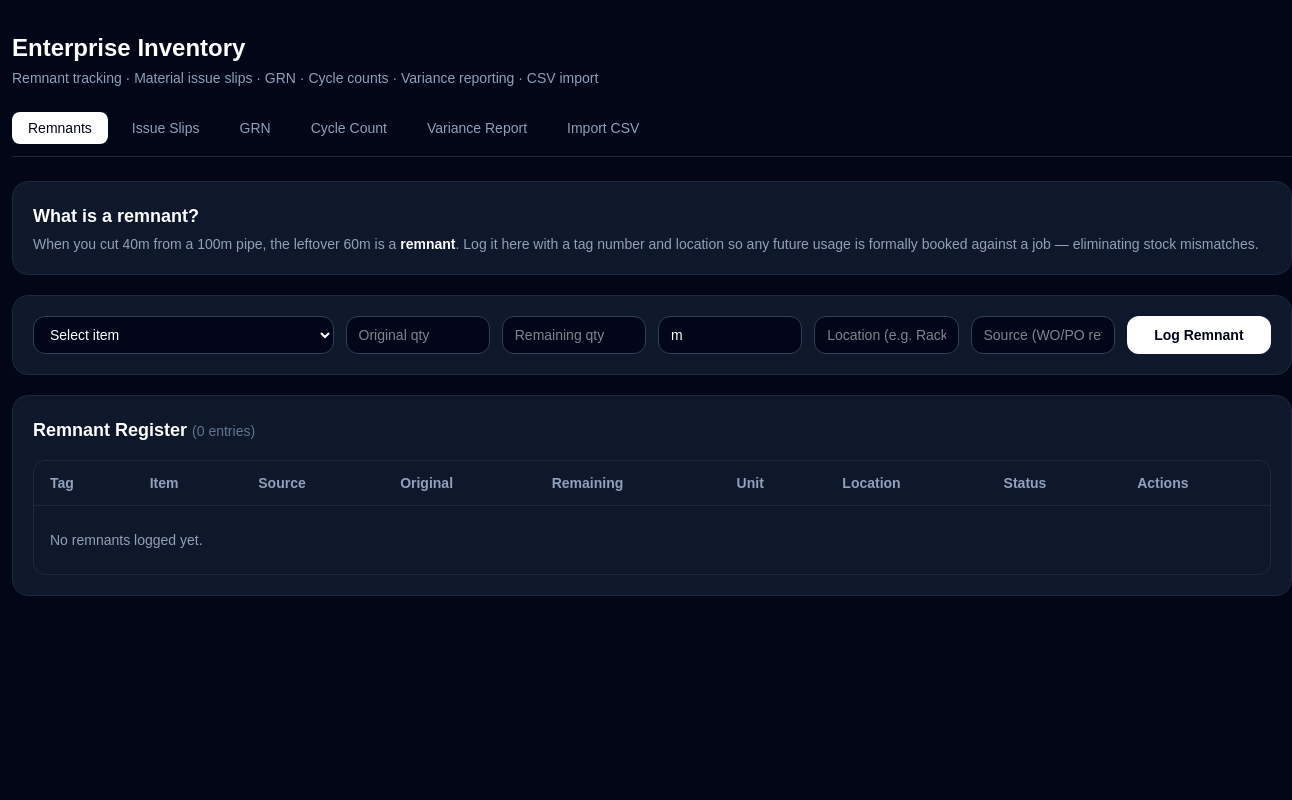
Test: EnterpriseInventory CSV import — a refusal is not a success › shows a 500 with a non-JSON body as refused, with the status
Click the button "Import CSV". click: x=603, y=128
box: [551,112,655,144]
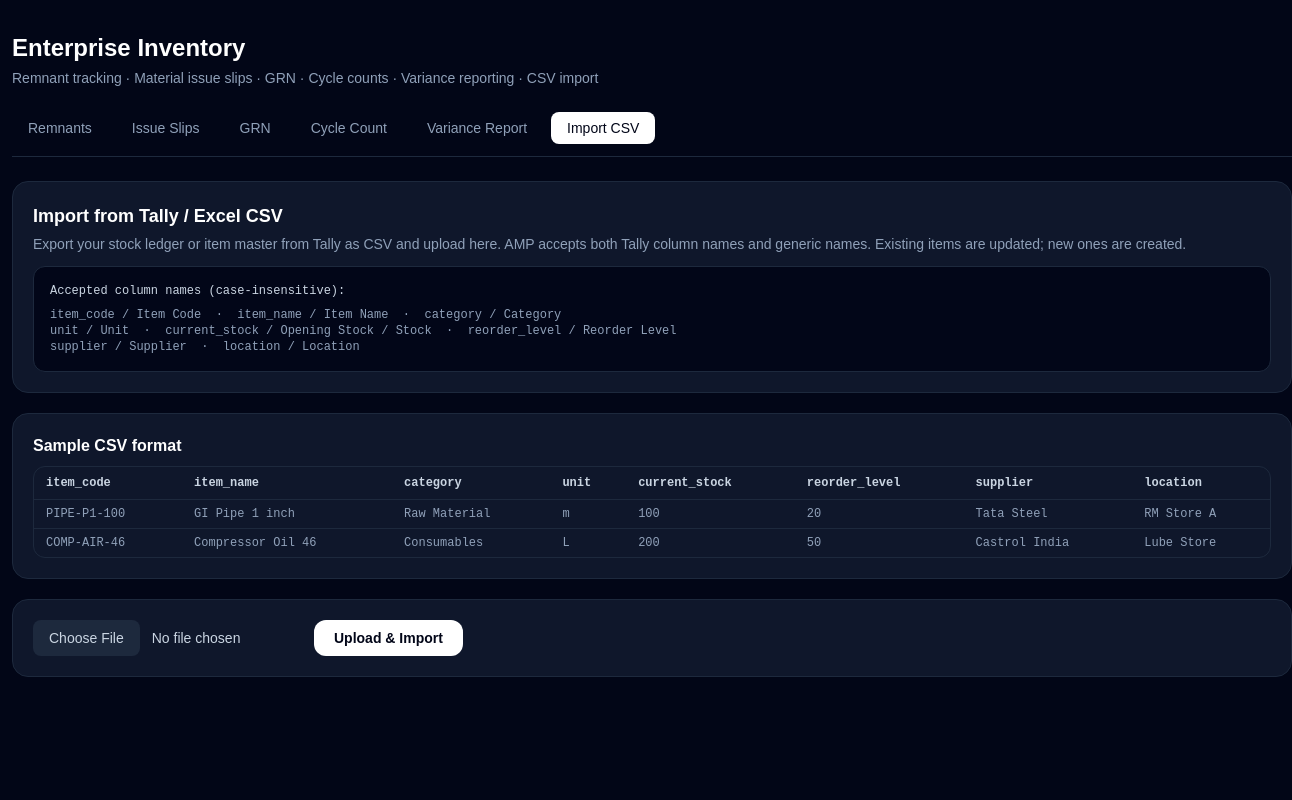
Submit the form, box [12,599,1291,677]
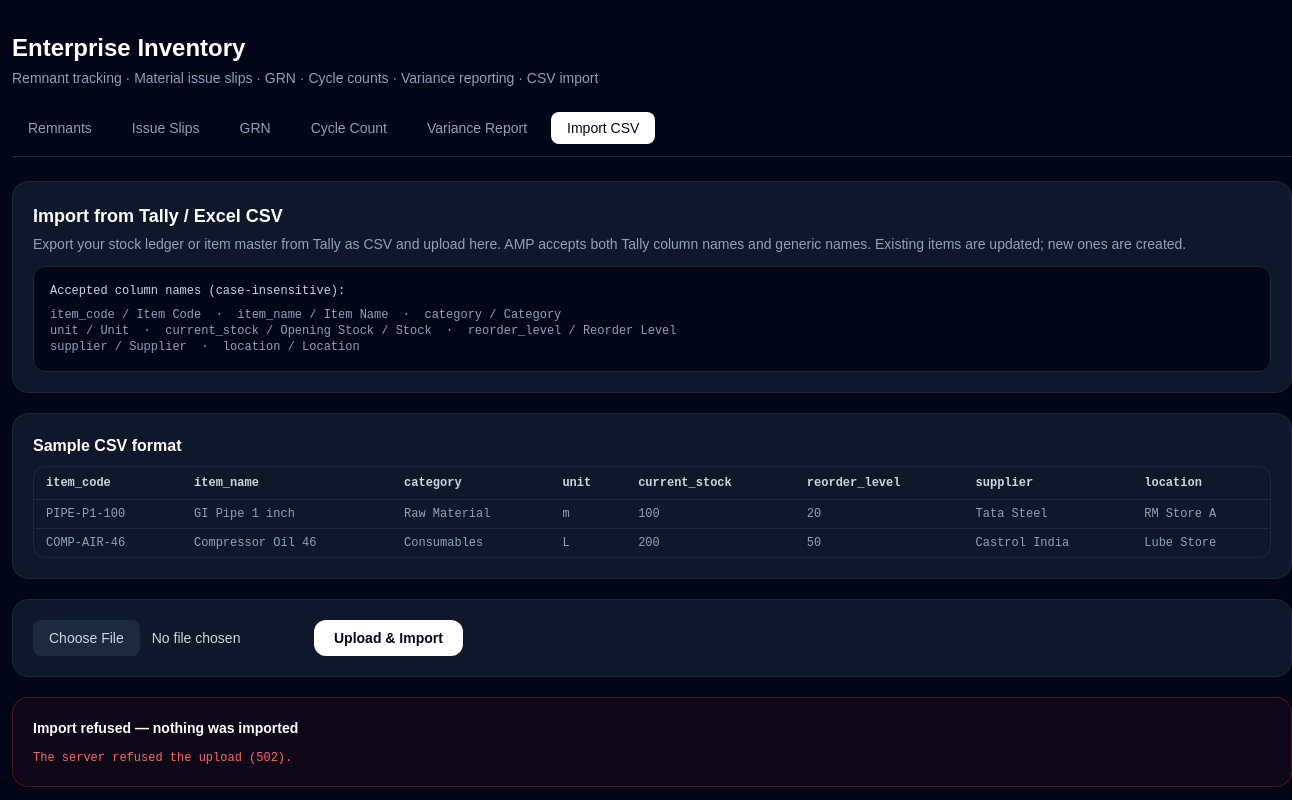
Expected: the message "Import refused — nothing was imported The server refused the upload (502)." is shown, [12,697,1291,787]
Expected: the message shows "The server refused the upload (502).", [33,751,292,765]
